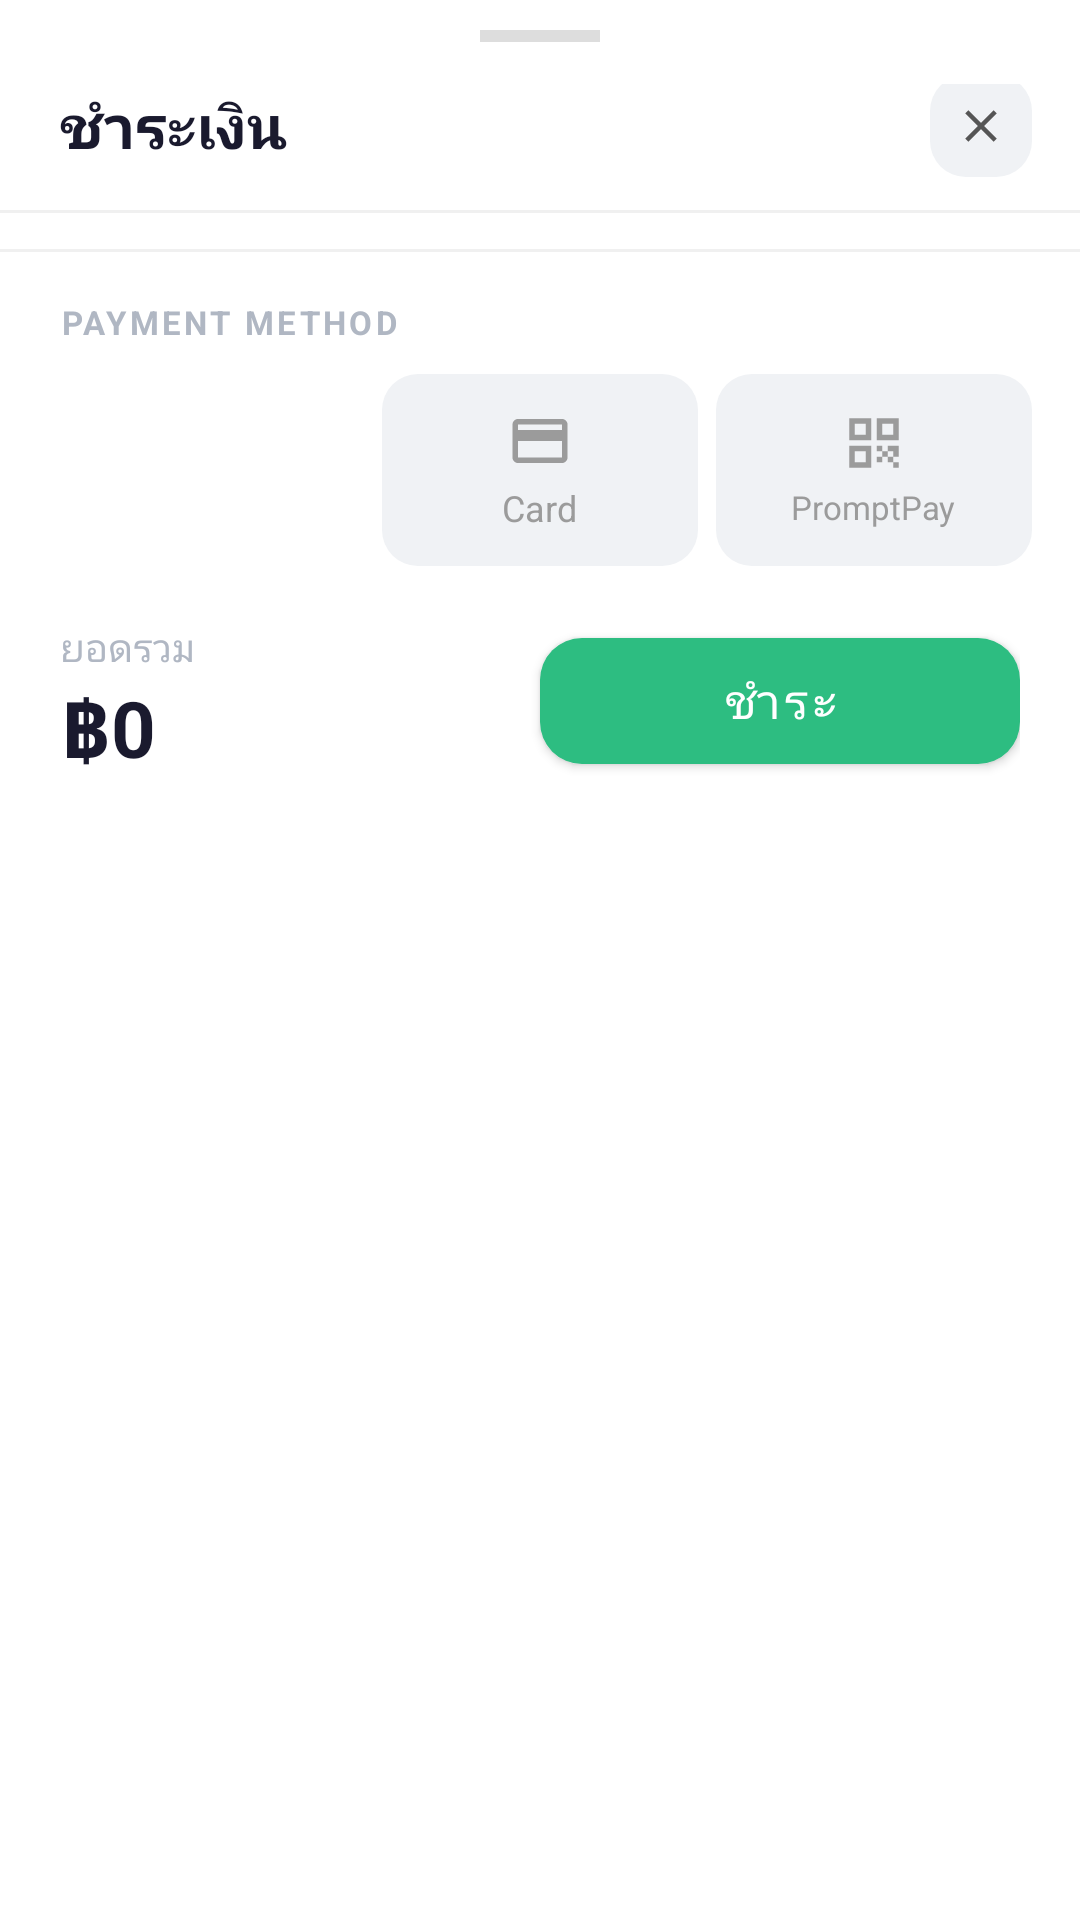

Screen size 1080w x 1920h. Icon name, then its box in pixels as (x1, y1, x2, y2):
close: (930, 84, 1032, 177)
